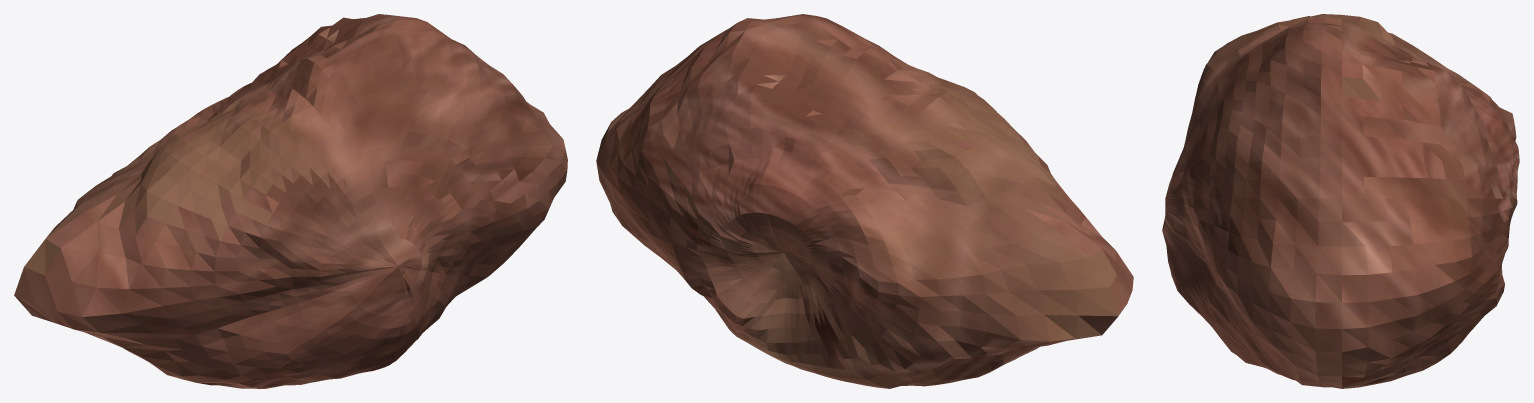
The model's file is amalthea.obj.
3 renders of one model, left to right at view 1: azimuth 30°, elevation 25°; view 2: azimuth 150°, elevation 25°; view 3: azimuth 270°, elevation 25°, orthographic. The views are drawn at different scales.
Visible parts, largest first — view 1: amalthea; view 2: amalthea; view 3: amalthea.
Part boxes in pixels (<box>): amalthea: <box>14,14,567,388</box>; amalthea: <box>596,14,1133,388</box>; amalthea: <box>1162,14,1519,388</box>.
Bounding box in the file's own units: 267 × 157 × 139.
